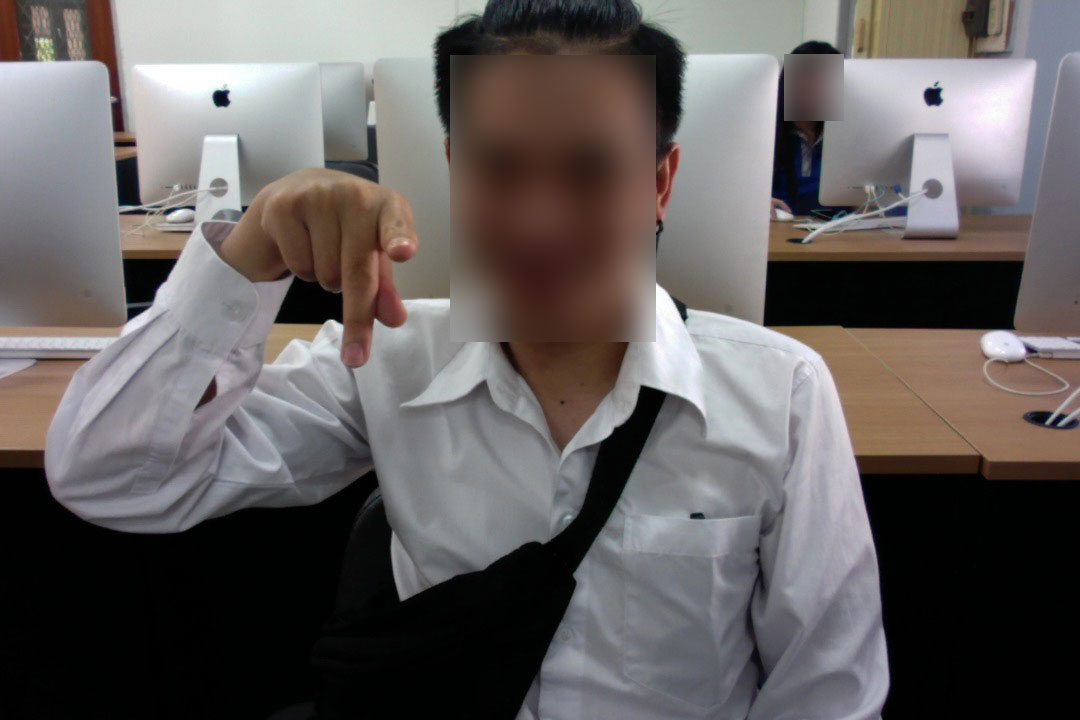por: (246, 137, 425, 376)
